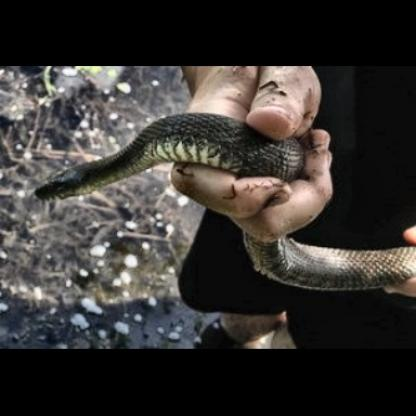Snake: (30, 111, 401, 291)
